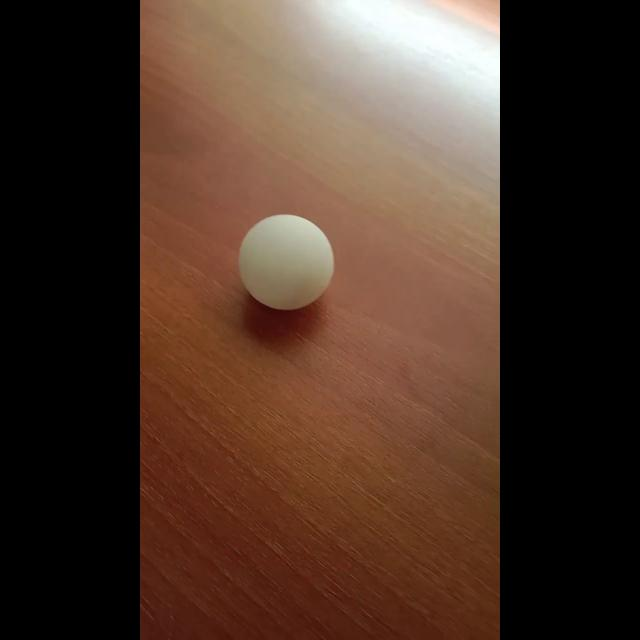white ball: (238, 213, 334, 311)
